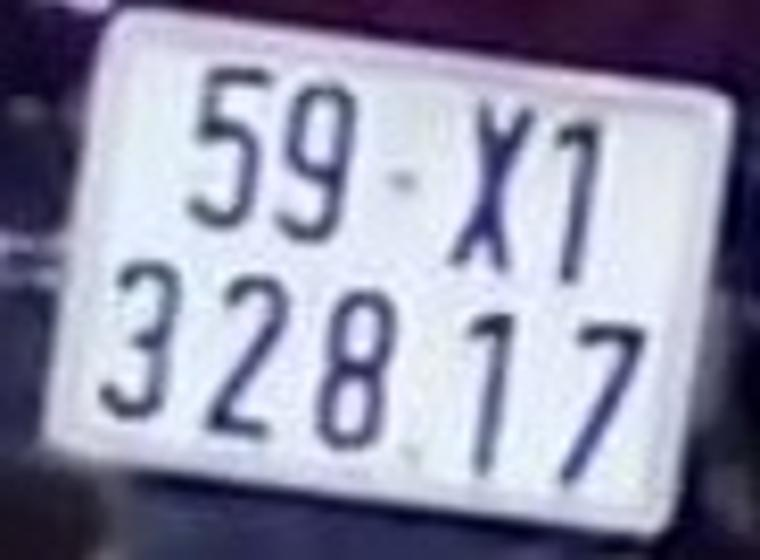-: (374, 154, 437, 205)
.: (392, 431, 440, 478)
1: (549, 109, 607, 288), (463, 307, 520, 483)
2: (204, 269, 282, 444)
3: (91, 256, 189, 426)
5: (187, 58, 269, 237)
7: (564, 315, 653, 490)
8: (318, 285, 392, 455)
9: (279, 76, 362, 247)
X: (442, 91, 538, 285)
